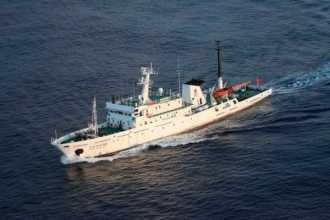warship: (50, 34, 275, 164)
